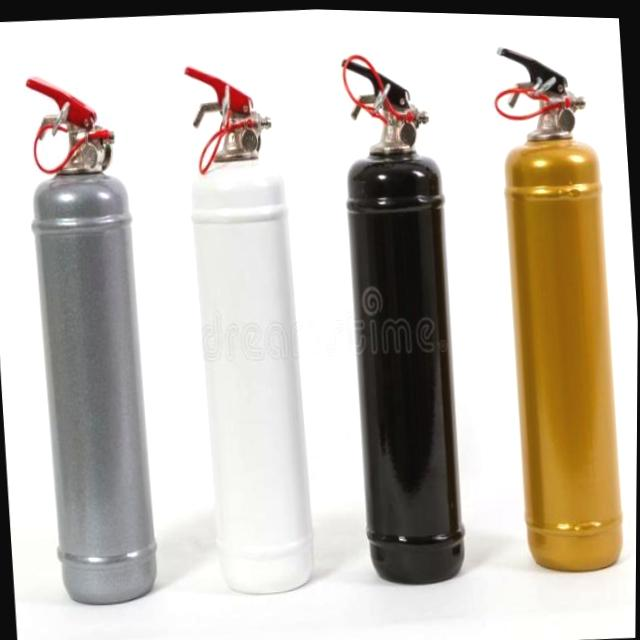FireExtinguisher: (10, 61, 172, 614), (171, 48, 329, 602), (480, 26, 637, 581), (323, 38, 478, 597)
